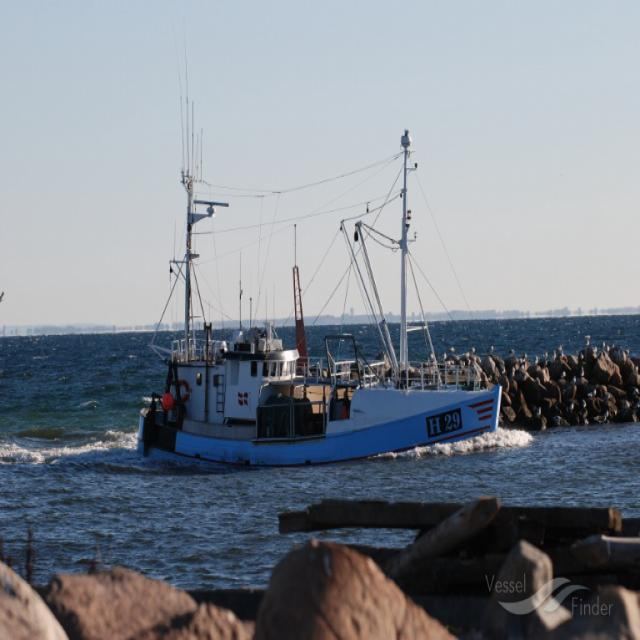Fishing Vessel: (136, 127, 500, 464)
